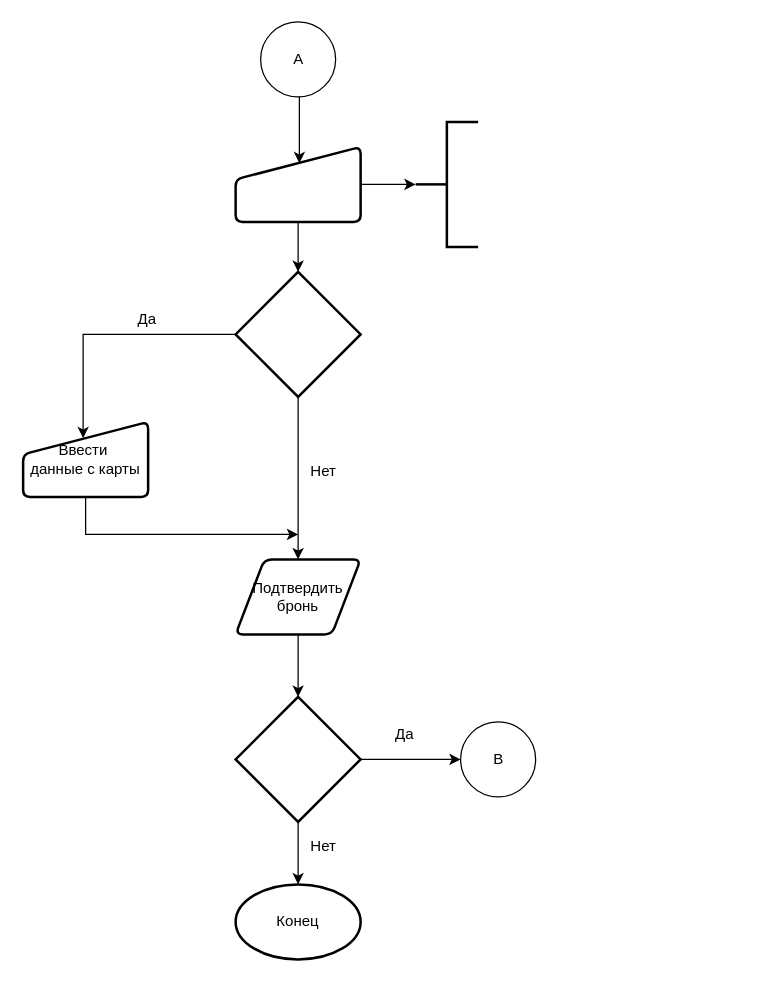
Some shapes in this 768 by 983 pixel diagram are drawn without their labels. Here are the shapes that lost their labels. From the top down, the box of each, then its label:
(414, 120, 479, 248): Ввести личные данные в поля формы
(234, 270, 361, 398): Залог с кредитной карты требуется?
(234, 695, 361, 822): Забронировать еще вариант?
